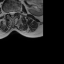CCS_normal: (11, 9, 13, 19)
LFS_normal: (15, 9, 17, 15)
LLS_normal: (13, 9, 15, 16)
RFS_normal: (7, 9, 9, 16)
RLS_normal: (9, 9, 11, 16)
